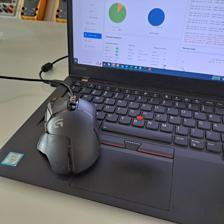mouse: (34, 94, 101, 177)
